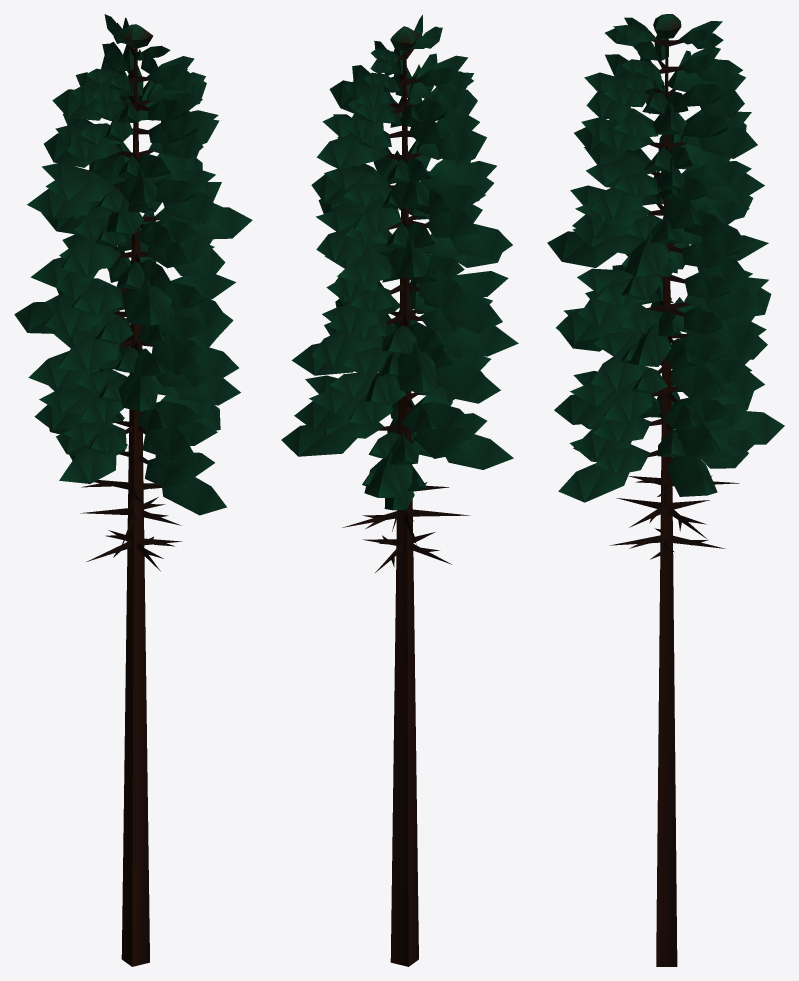
The model's file is pine-lod0.glb.
3 renders of one model, left to right at view 1: azimuth 30°, elevation 25°; view 2: azimuth 150°, elevation 25°; view 3: azimuth 270°, elevation 25°, orthographic.
Parts seen in each view (by area): view 1: tree; view 2: tree; view 3: tree.
Boxes of the visible parts, <box> form: tree: <box>14,14,252,966</box>; tree: <box>281,14,518,966</box>; tree: <box>547,14,784,966</box>.
Bounding box in the file's own units: 4.54 × 19.9 × 4.53.
